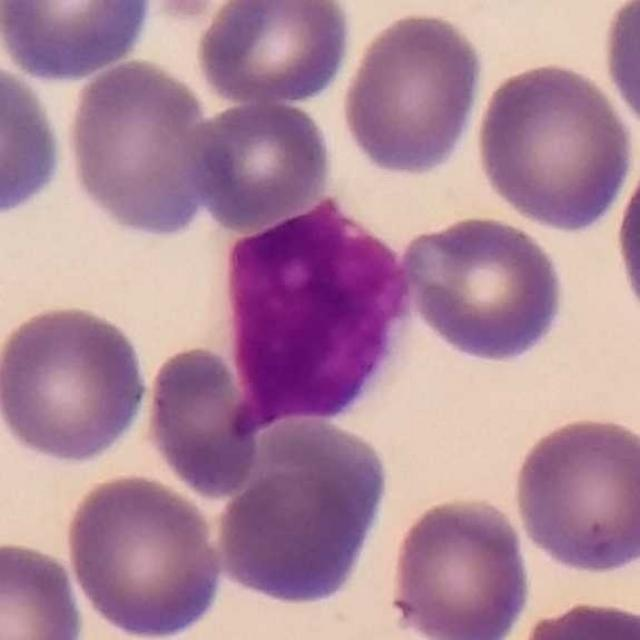Lymphocyte: (214, 200, 412, 435)
RBC: (210, 412, 395, 613), (61, 54, 222, 242), (471, 57, 638, 234), (61, 470, 228, 639), (397, 212, 570, 368), (338, 6, 486, 180), (0, 299, 152, 468), (383, 492, 535, 640), (507, 411, 639, 580), (185, 97, 335, 231), (140, 342, 264, 502), (194, 0, 355, 108), (0, 0, 158, 83), (0, 54, 68, 222), (0, 536, 88, 640), (608, 128, 639, 345), (597, 0, 640, 139), (508, 595, 640, 639)
